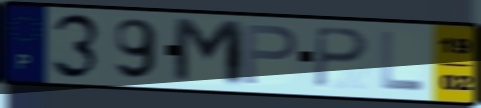3: (46, 12, 106, 81)
9: (113, 17, 158, 82)
L: (379, 29, 427, 93)
M: (171, 16, 248, 89)
P: (242, 22, 301, 87), (313, 24, 371, 90)
